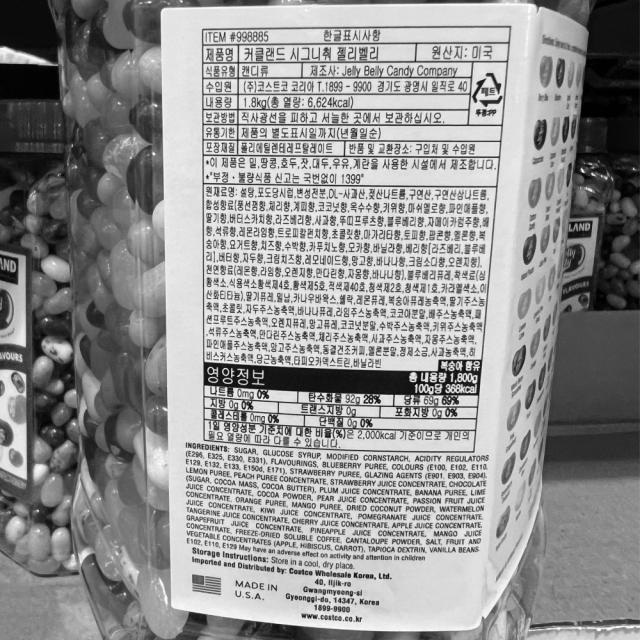Nutrition Label: (196, 360, 491, 458)
